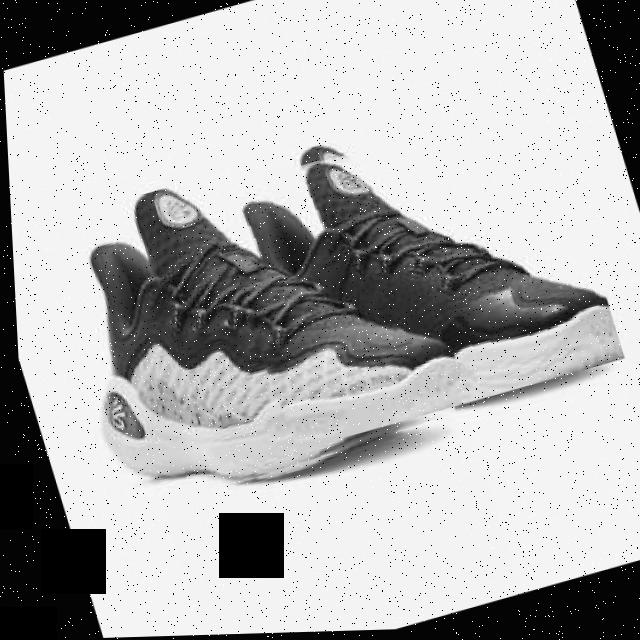shoe: (33, 130, 458, 520), (190, 92, 624, 459)
